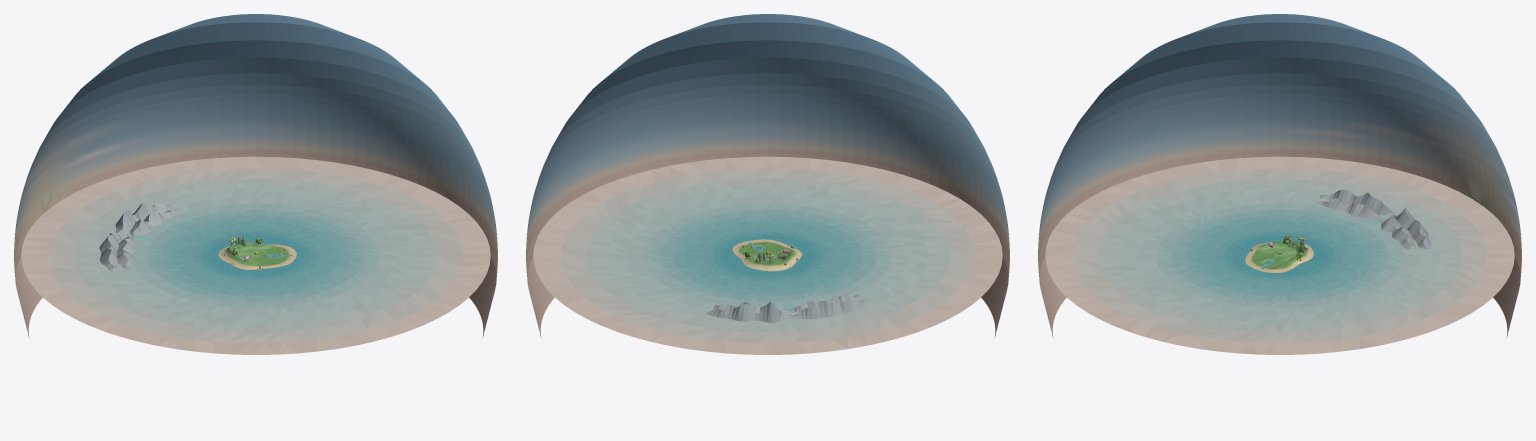
The model's file is kit.glb.
3 views of the same model, side by side, from view 1: azimuth 30°, elevation 25°; view 2: azimuth 150°, elevation 25°; view 3: azimuth 270°, elevation 25° (orthographic).
Parts seen in each view (by area): view 1: island__sea.x, island__sky.x, island__far.x, island__ground_albedo.x; view 2: island__sea.x, island__sky.x, island__far.x, island__ground_albedo.x; view 3: island__sea.x, island__sky.x, island__far.x, island__ground_albedo.x.
Part boxes in pixels (x1,y1,x2,y2): island__sea.x: (21, 156, 490, 354); island__sky.x: (14, 14, 497, 337); island__far.x: (99, 203, 180, 270); island__ground_albedo.x: (218, 243, 296, 269); island__sea.x: (533, 156, 1002, 354); island__sky.x: (526, 14, 1009, 337); island__far.x: (707, 295, 871, 323); island__ground_albedo.x: (732, 239, 802, 271); island__sea.x: (1045, 156, 1514, 354); island__sky.x: (1038, 14, 1521, 337); island__far.x: (1315, 190, 1431, 249); island__ground_albedo.x: (1245, 241, 1313, 272).
Bounding box in the file's own units: 280 × 188 × 280.
